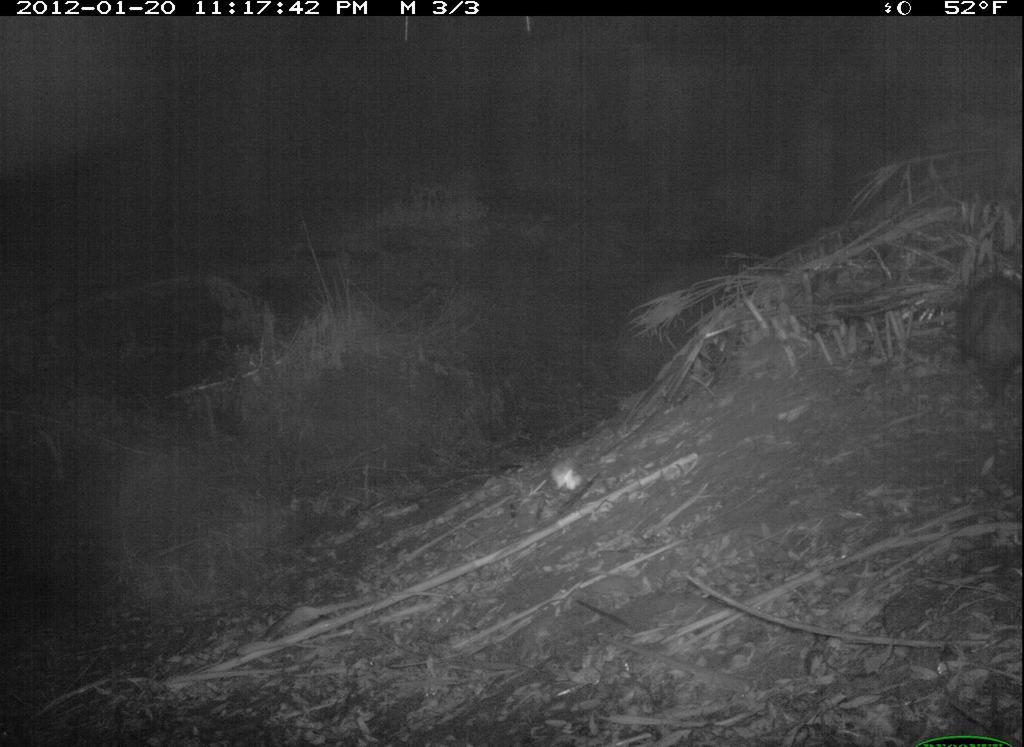opossum: (947, 249, 1024, 424)
